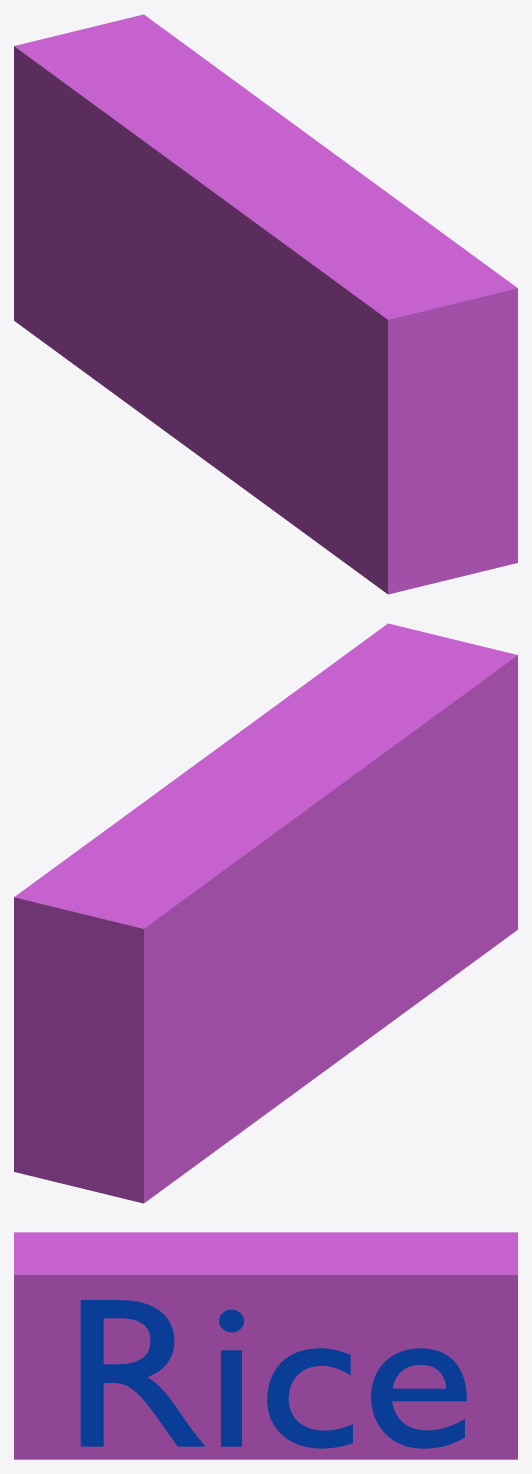
Rendered from baseRice.fbx.
3 renders of one model, top to bottom at view 1: azimuth 30°, elevation 25°; view 2: azimuth 150°, elevation 25°; view 3: azimuth 270°, elevation 25°, orthographic. The views are drawn at different scales.
Visible parts, largest first — view 1: Cube; view 2: Cube; view 3: Cube, Text.
Part boxes in pixels (x1=…): Cube: x1=14, y1=14, x2=517, y2=594; Cube: x1=14, y1=623, x2=517, y2=1203; Cube: x1=14, y1=1232, x2=517, y2=1459; Text: x1=80, y1=1300, x2=466, y2=1448.
Size of the model in its own units: 113 by 23.19 by 45.66.
